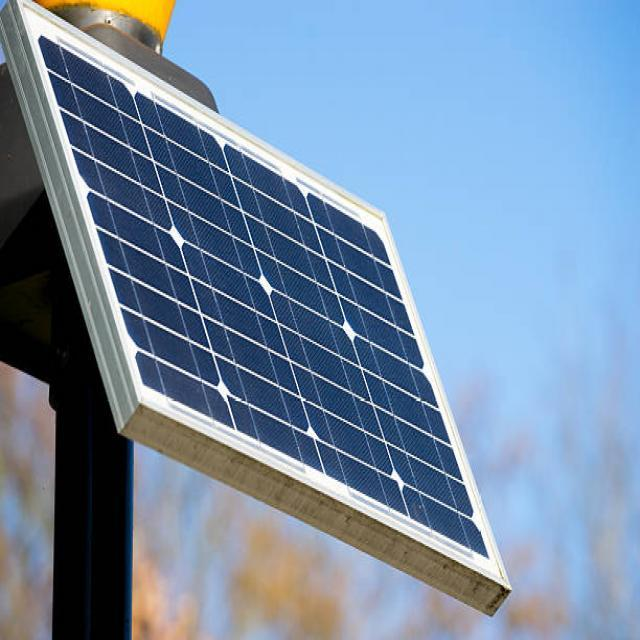no faulty: (12, 0, 505, 590)
